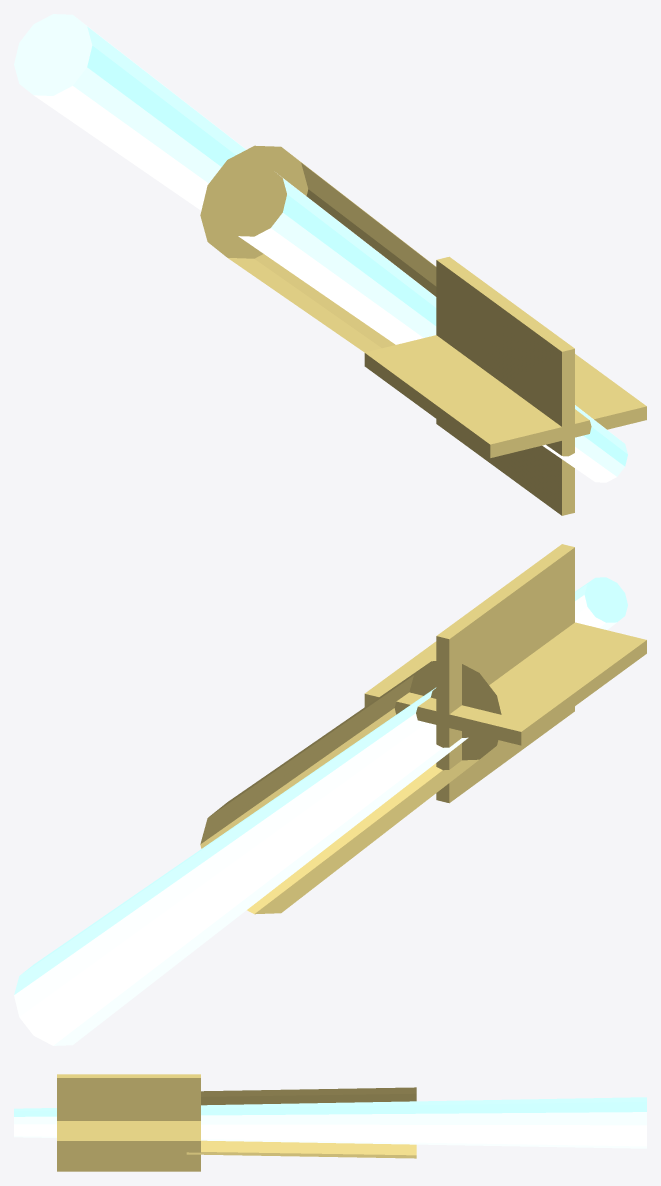
File: PlasmaBolt.glb
The picture shows the model from 3 angles, top to bottom: view 1: azimuth 30°, elevation 25°; view 2: azimuth 150°, elevation 25°; view 3: azimuth 270°, elevation 25°; orthographic projection. The views are drawn at different scales.
Visible parts, largest first — view 1: PlasmaBolt; view 2: PlasmaBolt; view 3: PlasmaBolt.
Part boxes in pixels (x1,y1,x2,y2): PlasmaBolt: [14, 14, 646, 515]; PlasmaBolt: [14, 544, 646, 1045]; PlasmaBolt: [14, 1074, 646, 1171].
Size of the model in its own units: 0.18 by 0.18 by 1.1.
